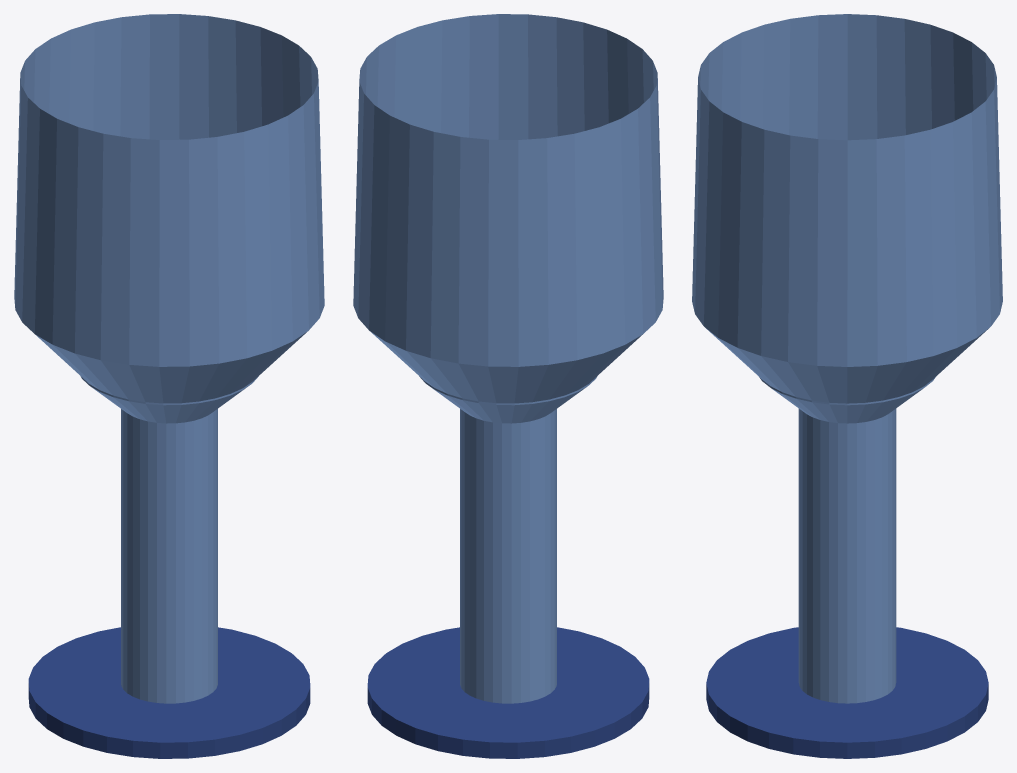
Rendered from Kruze.fbx.
The picture shows the model from 3 angles, left to right: view 1: azimuth 30°, elevation 25°; view 2: azimuth 150°, elevation 25°; view 3: azimuth 270°, elevation 25°; orthographic projection.
Parts seen in each view (by area): view 1: Cylinder; view 2: Cylinder; view 3: Cylinder.
Part boxes in pixels (x1=…): Cylinder: x1=14, y1=14, x2=324, y2=758; Cylinder: x1=353, y1=14, x2=663, y2=758; Cylinder: x1=692, y1=14, x2=1002, y2=758.
Bounding box in the file's own units: 220 × 486 × 220.
